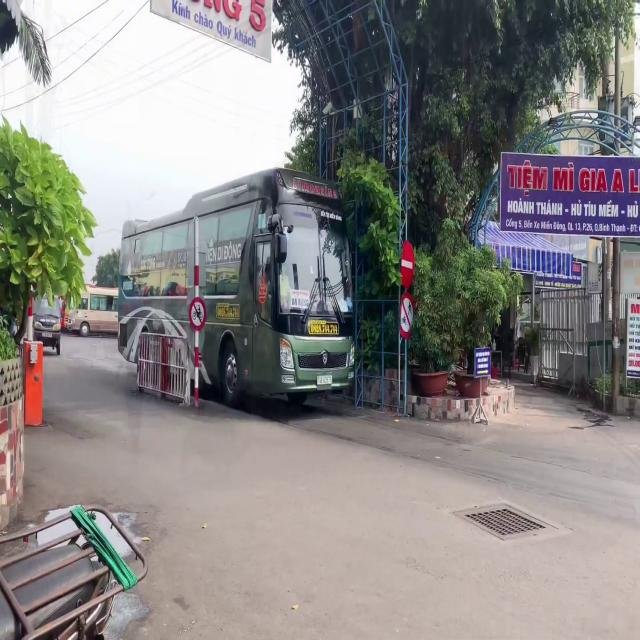bien_trang: (316, 376, 332, 385)
